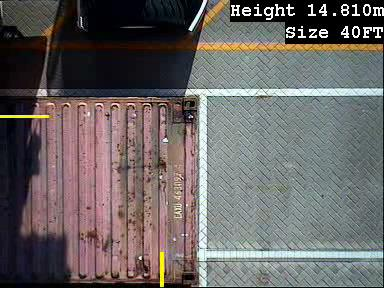groundmarker_2: (178, 217, 248, 270), (178, 116, 248, 168)
